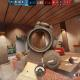Character: (57, 40, 67, 53)
Friend_label: (57, 36, 62, 40)
Head: (58, 41, 60, 42)
